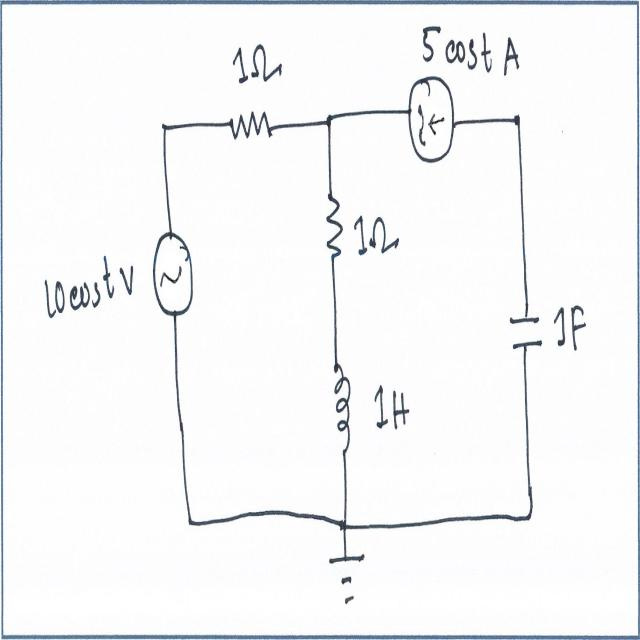ac_current: (148, 226, 201, 334)
capacitor: (507, 300, 543, 369)
current_source: (407, 73, 462, 164)
ground: (328, 547, 365, 617)
inductor: (330, 360, 356, 468)
resistor: (226, 100, 275, 160), (324, 179, 345, 273)
